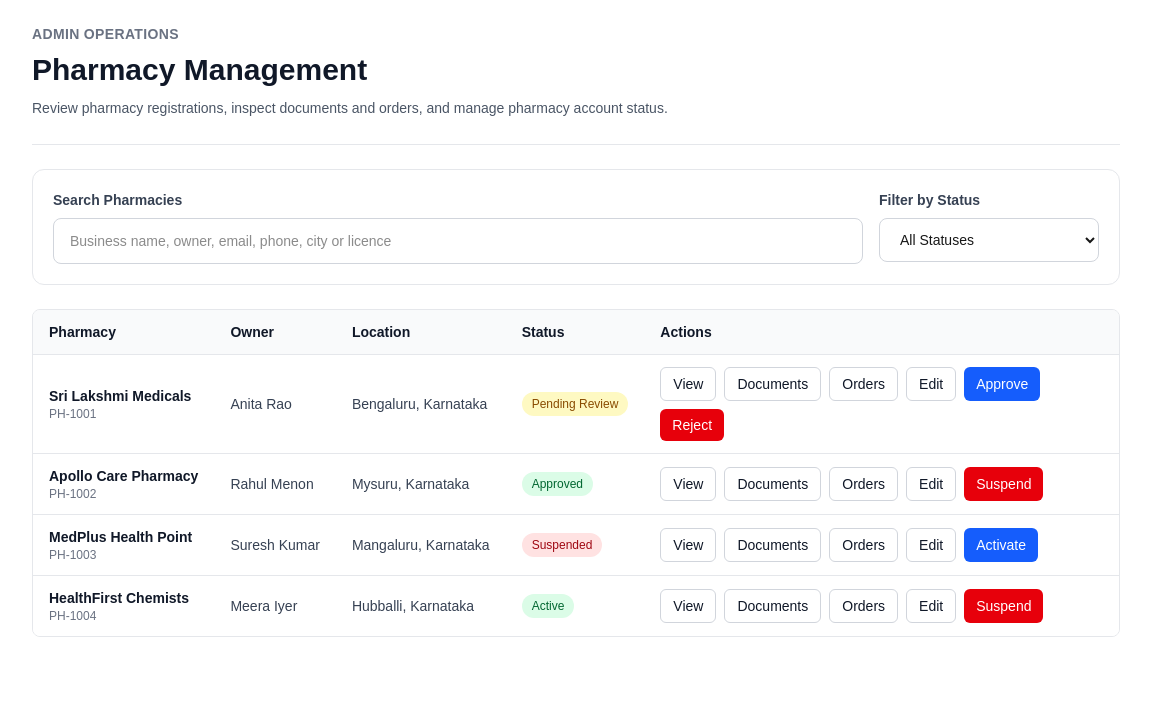
Test case: Pharmacy Management integration › requires confirmation before changing status
This screenshot has width=1152, height=720.
Click the button "Approve" at [1002, 384], box [964,367,1040,401]
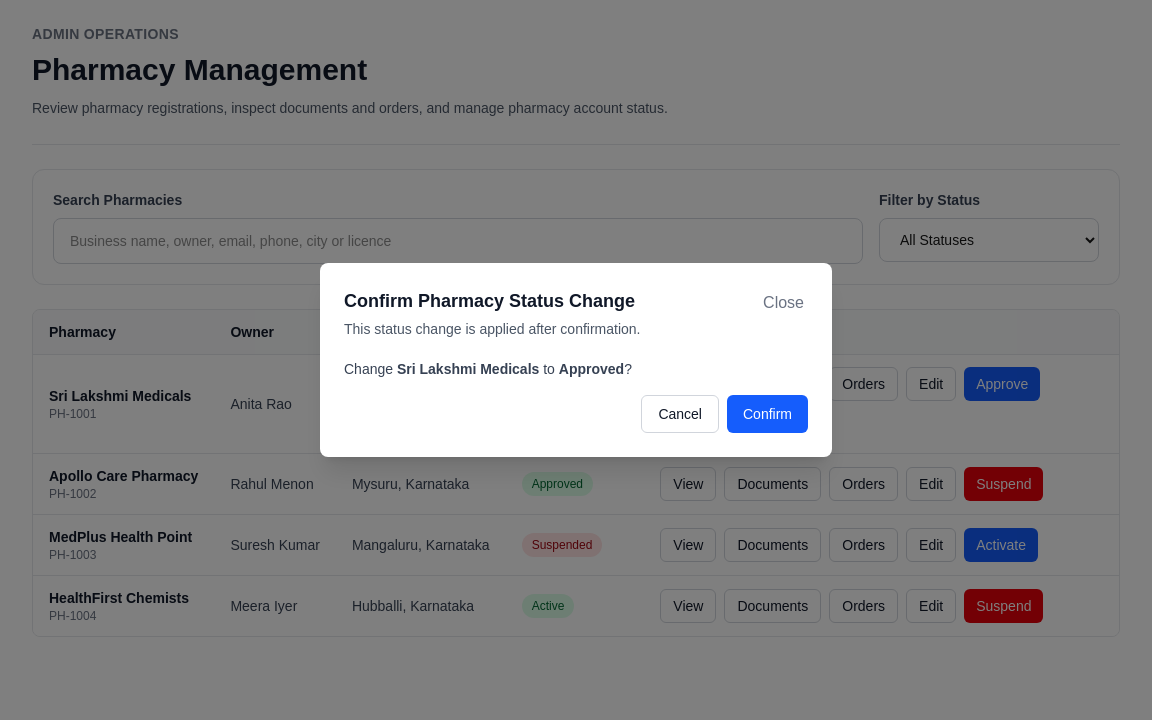
Expected: the heading "Confirm Pharmacy Status Change" is shown, [344,287,640,315]
Click the button "Confirm" at [768, 414], box [727,395,808,433]
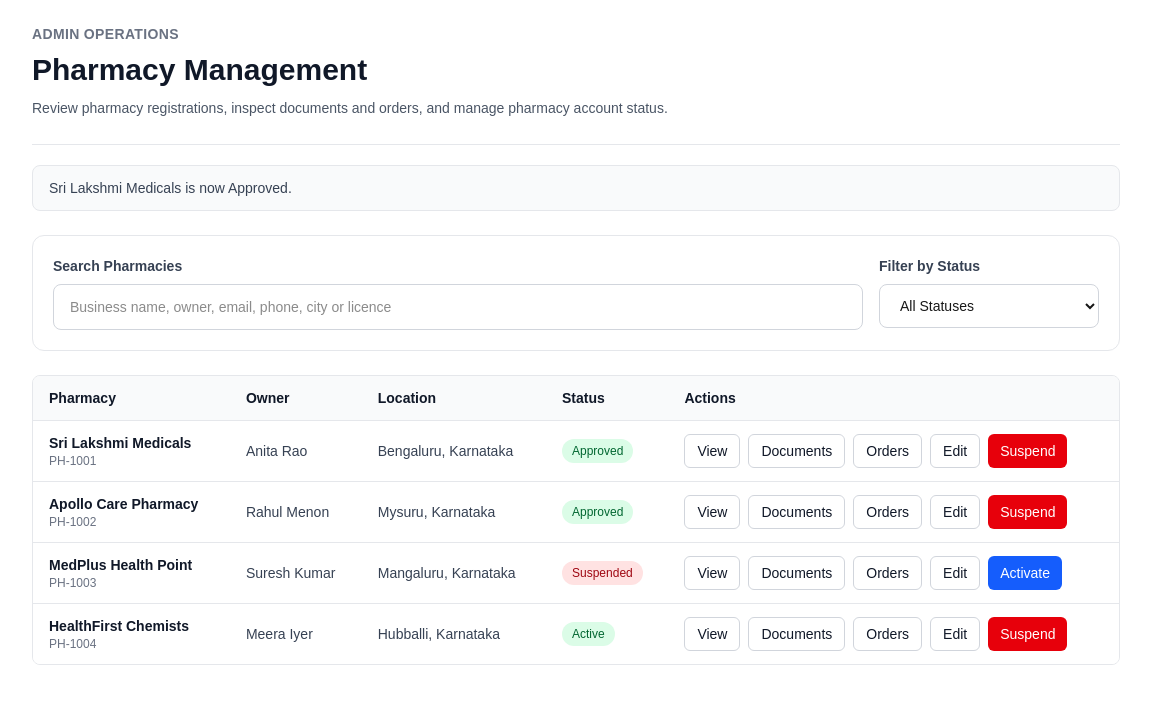
Expected: the text "Sri Lakshmi Medicals is now Approved." is shown, [32,165,1120,211]
